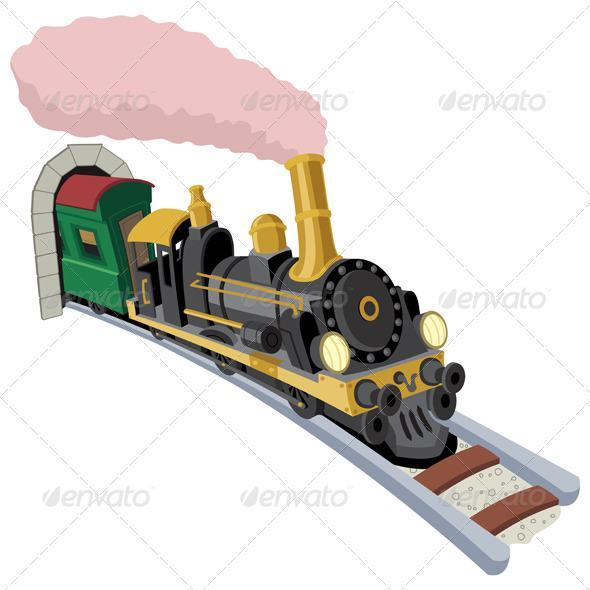train: (50, 128, 468, 472)
